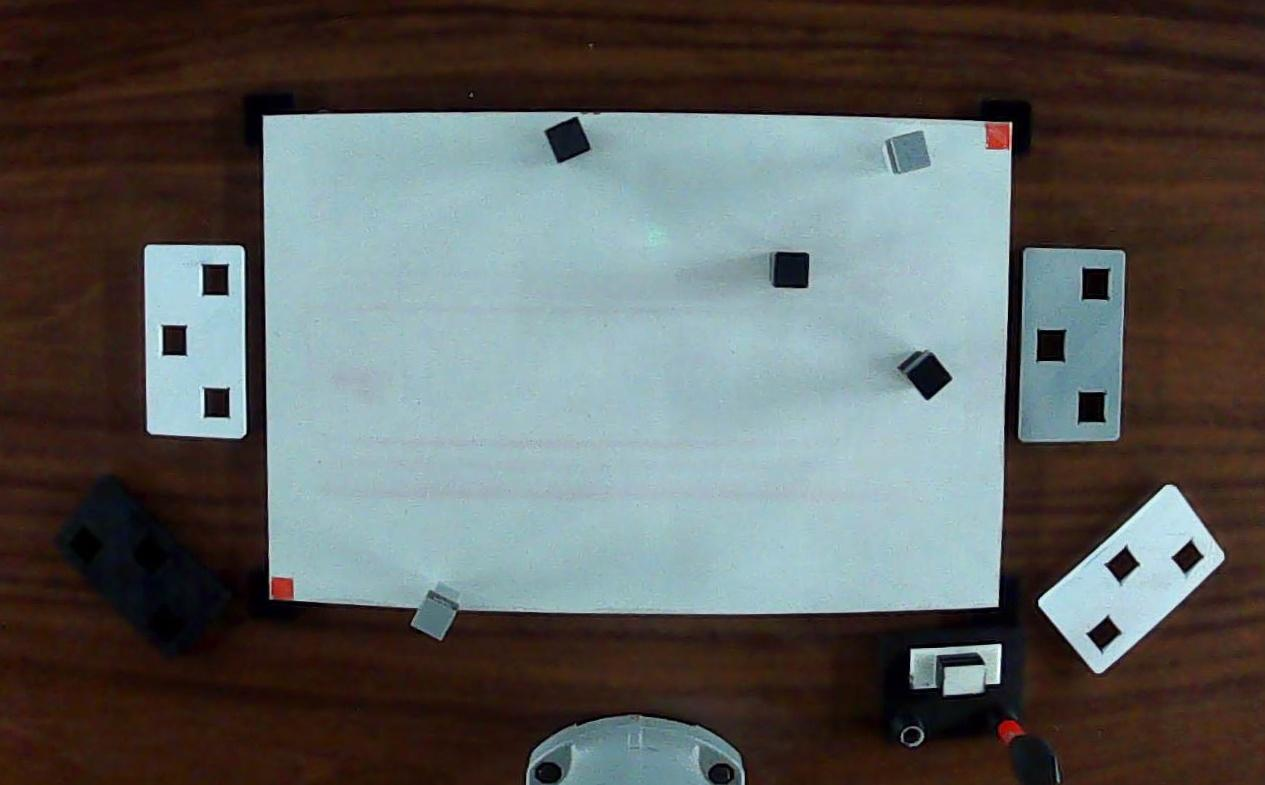pecaCinza: (409, 576, 464, 644), (879, 124, 941, 180)
pecaPreta: (896, 347, 957, 403), (542, 116, 596, 164), (768, 246, 813, 293)
